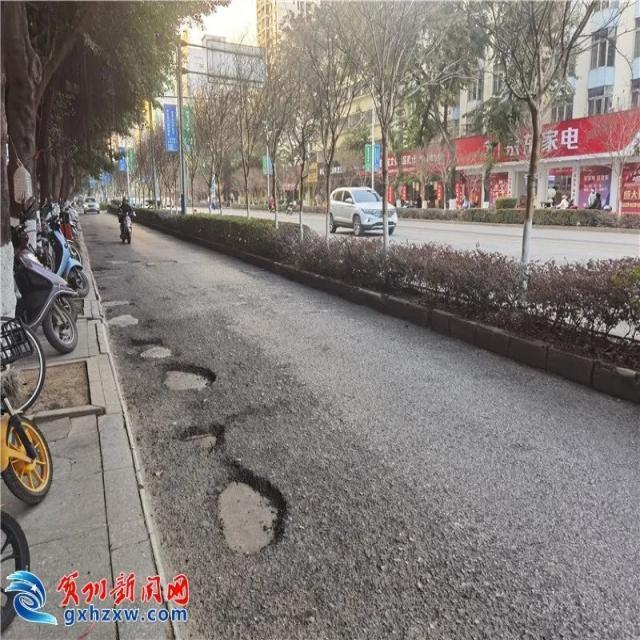pothole: (202, 472, 300, 568), (151, 361, 224, 390), (178, 421, 234, 456), (127, 329, 170, 358), (106, 299, 143, 330)
